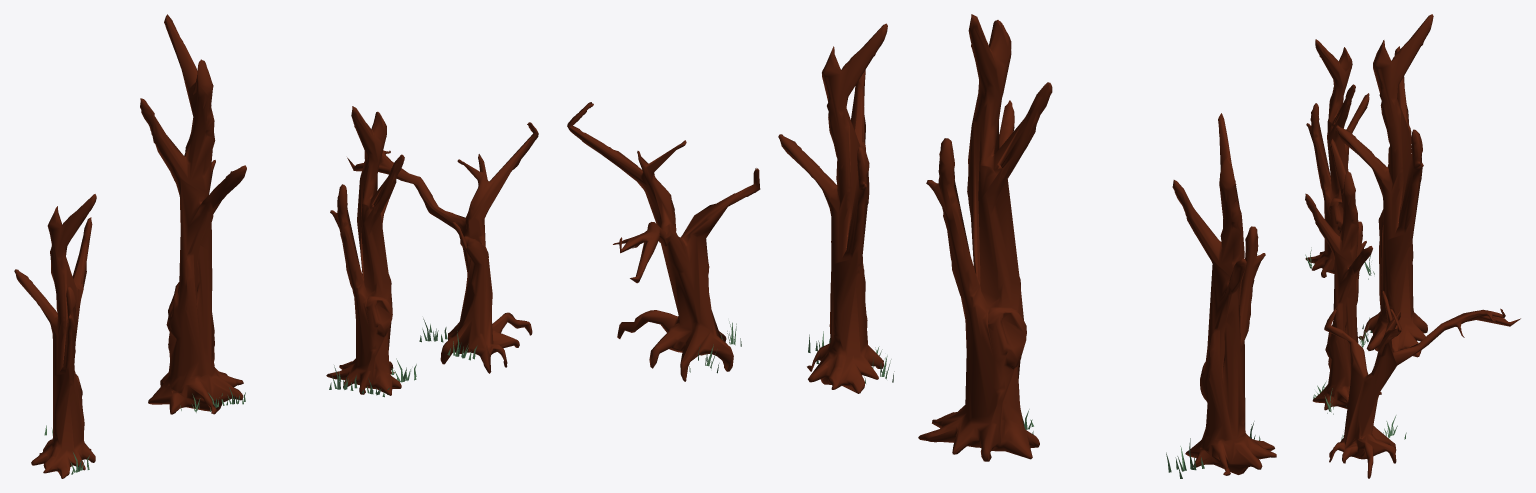
Rendered from carousel_b.glb.
3 views of the same model, side by side, from view 1: azimuth 30°, elevation 25°; view 2: azimuth 150°, elevation 25°; view 3: azimuth 270°, elevation 25° (orthographic). The views are drawn at different scales.
Visible parts, largest first — view 1: bgTree_03.001, bgTree_03, bgTree_03.002, bgTree_01.001; view 2: bgTree_03.001, bgTree_03, bgTree_03.002, bgTree_01.001; view 3: bgTree_03.001, bgTree_01.001, bgTree_03, bgTree_03.002.
Part boxes in pixels (x1,y1,x2,y2): bgTree_03.001: [140, 14, 246, 414]; bgTree_03: [326, 106, 404, 395]; bgTree_03.002: [14, 194, 96, 478]; bgTree_01.001: [347, 122, 538, 373]; bgTree_03.001: [918, 14, 1052, 461]; bgTree_03: [778, 23, 887, 393]; bgTree_03.002: [1172, 113, 1276, 475]; bgTree_01.001: [567, 102, 760, 381]; bgTree_03.001: [1335, 14, 1433, 357]; bgTree_01.001: [1324, 291, 1520, 478]; bgTree_03: [1305, 139, 1381, 410]; bgTree_03.002: [1305, 39, 1369, 277].
Size of the model in its own units: 7.81 by 5.29 by 3.11.
